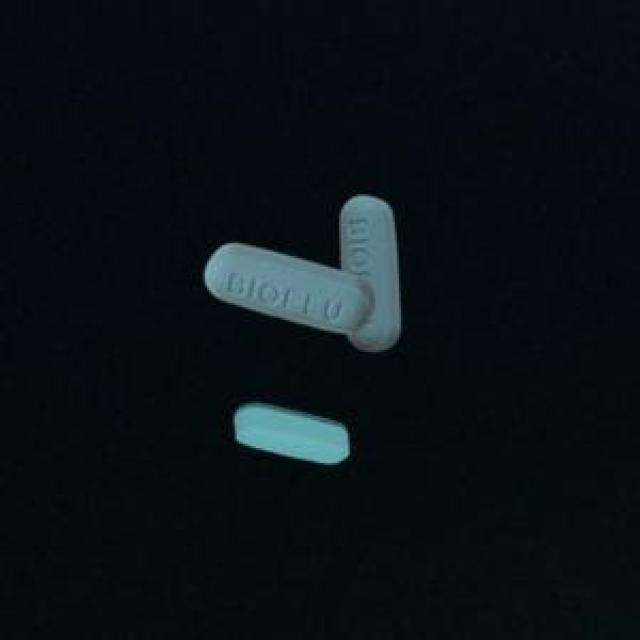Bioflu: (188, 170, 416, 368), (227, 390, 355, 482)
